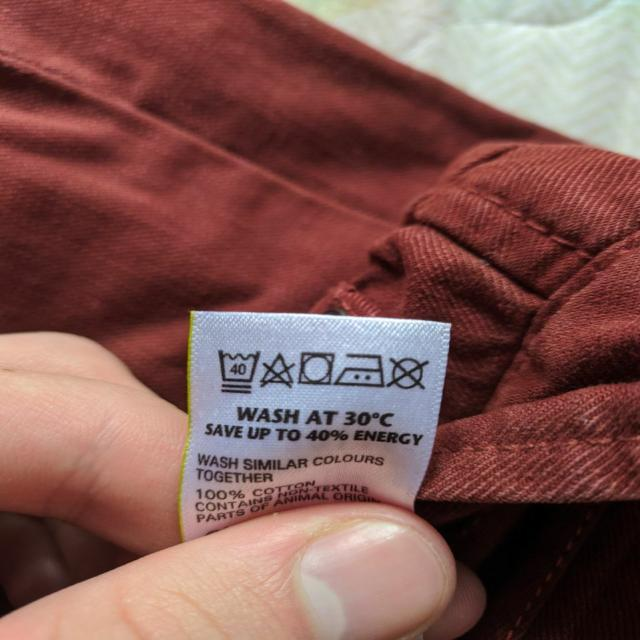40C: (215, 345, 260, 399)
DN_bleach: (261, 351, 294, 390)
DN_dry_clean: (392, 354, 431, 390)
iron_medium: (336, 347, 388, 389)
tumble_dry_normal: (295, 348, 339, 386)
